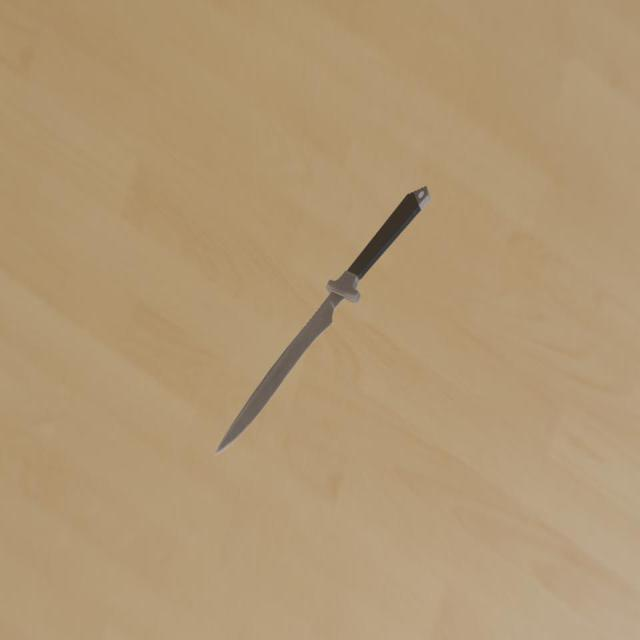knife: (347, 186, 429, 280)
